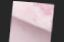plaque psoriasis: (31, 2, 54, 15), (49, 18, 53, 36)
